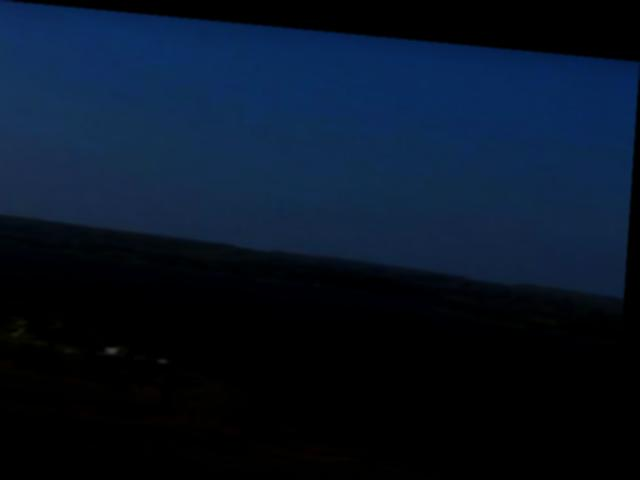iha: (86, 339, 181, 376)
